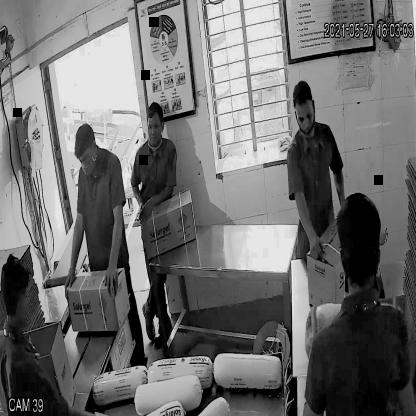no_goggles: (294, 108, 318, 129)
